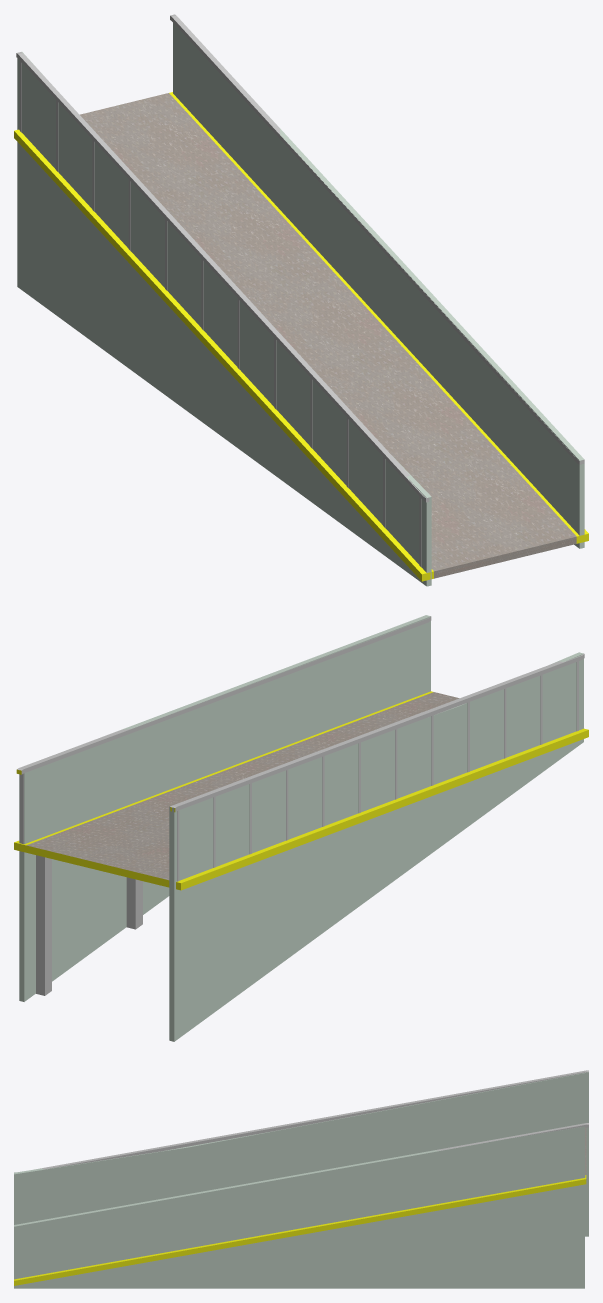
The model's file is GBZH35_Helipad_Ramp02.gltf.
3 views of the same model, one above another, from view 1: azimuth 30°, elevation 25°; view 2: azimuth 150°, elevation 25°; view 3: azimuth 270°, elevation 25° (orthographic). The views are drawn at different scales.
Parts seen in each view (by area): view 1: Ramp02; view 2: Ramp02; view 3: Ramp02.
Part boxes in pixels (x1,y1,x2,y2): Ramp02: (14, 14, 588, 586); Ramp02: (14, 615, 588, 1041); Ramp02: (14, 1070, 588, 1288).
Bounding box in the file's own units: 2.74 × 3.67 × 11.64.
